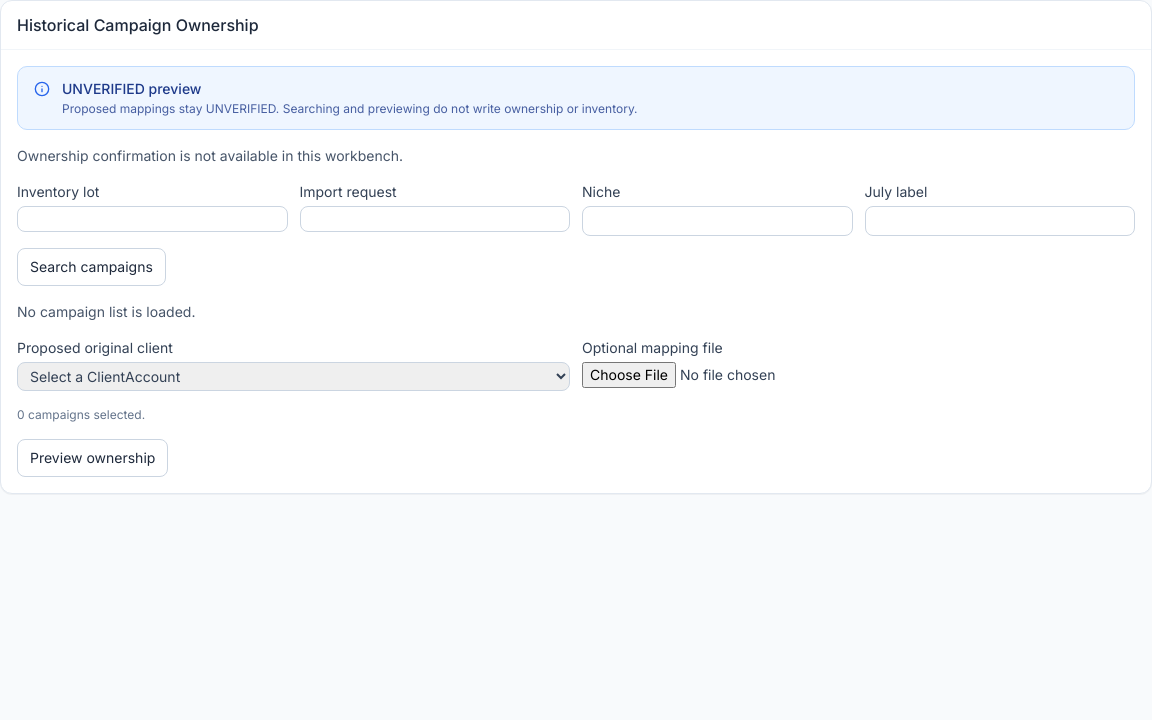
Test case: HistoricalOwnershipWorkbench › searches through the operator route and renders the July label
Type "lot_vet" into the field with test id "ownership-lot-filter".
click(152, 219); type("lot_vet")  # box [17,206,288,232]
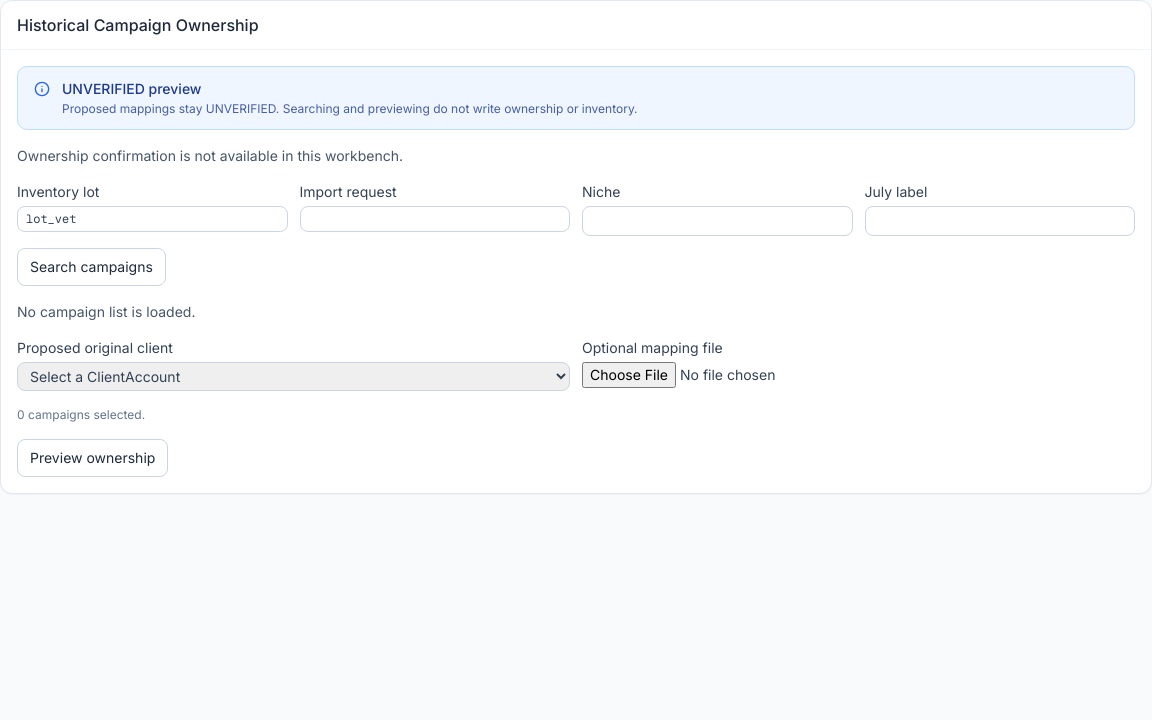
Click the button "Search campaigns".
click(91, 267)  # box [17,248,166,286]
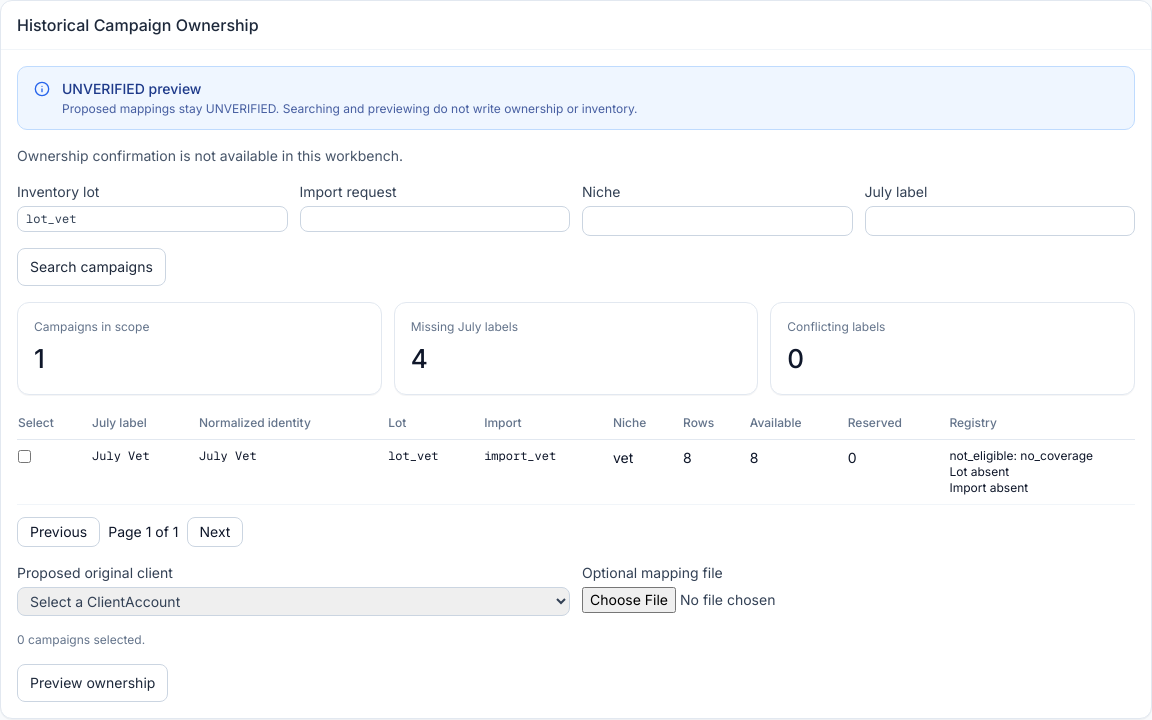
Check: the text "Missing July labels" is shown, box [411,319,518,334]
